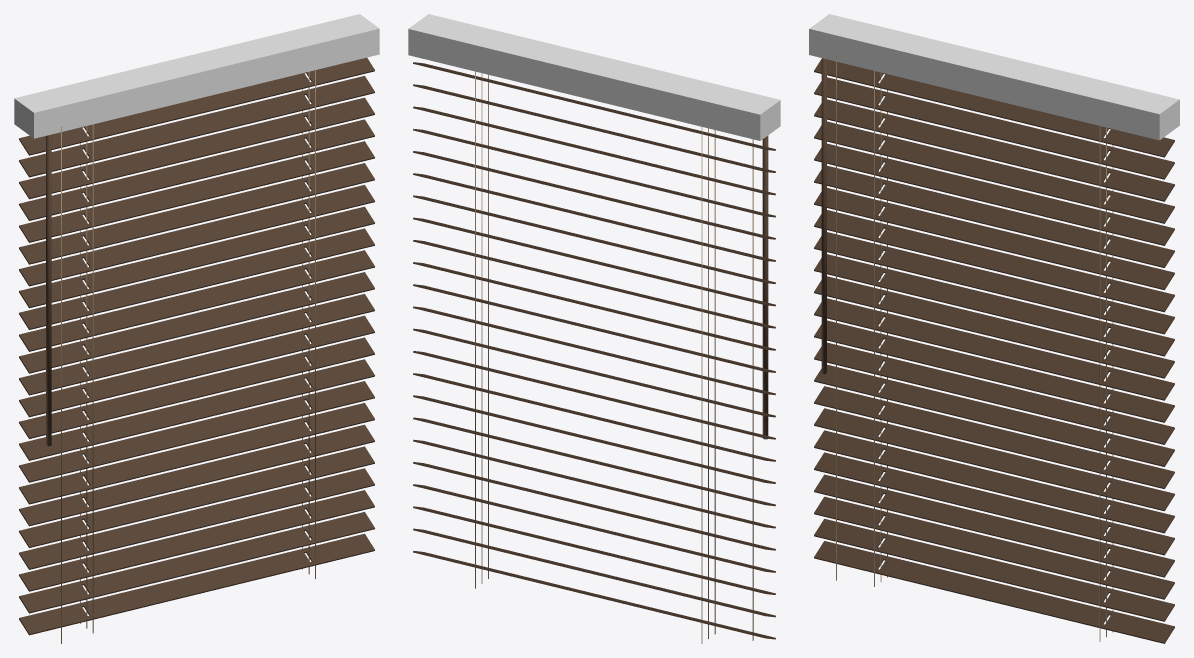
File: blind.glb
3 views of the same model, side by side, from view 1: azimuth 30°, elevation 25°; view 2: azimuth 150°, elevation 25°; view 3: azimuth 330°, elevation 25° (orthographic).
Parts seen in each view (by area): view 1: Plane, Cube.001, String, Cylinder; view 2: Plane, Cube.001, String, Cylinder, String.001; view 3: Plane, Cube.001, String, Cylinder.
Part boxes in pixels (left/top/right/bottom): Plane: left=19, top=57, right=374, bottom=635; Cube.001: left=14, top=14, right=379, bottom=138; String: left=80, top=70, right=315, bottom=633; Cylinder: left=46, top=134, right=51, bottom=446; Plane: left=413, top=62, right=775, bottom=639; Cube.001: left=408, top=14, right=780, bottom=140; String: left=475, top=71, right=715, bottom=643; Cylinder: left=762, top=135, right=768, bottom=439; String.001: left=752, top=139, right=753, bottom=640; Plane: left=814, top=59, right=1174, bottom=643; Cube.001: left=809, top=14, right=1179, bottom=140; String: left=874, top=71, right=1113, bottom=641; Cylinder: left=821, top=58, right=826, bottom=374.
Bounding box in the file's own units: 0.7 × 1.04 × 0.074.
